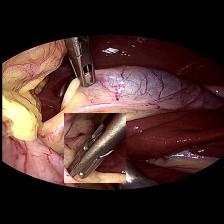Grasper: (63, 113, 125, 183), (62, 29, 100, 92)
